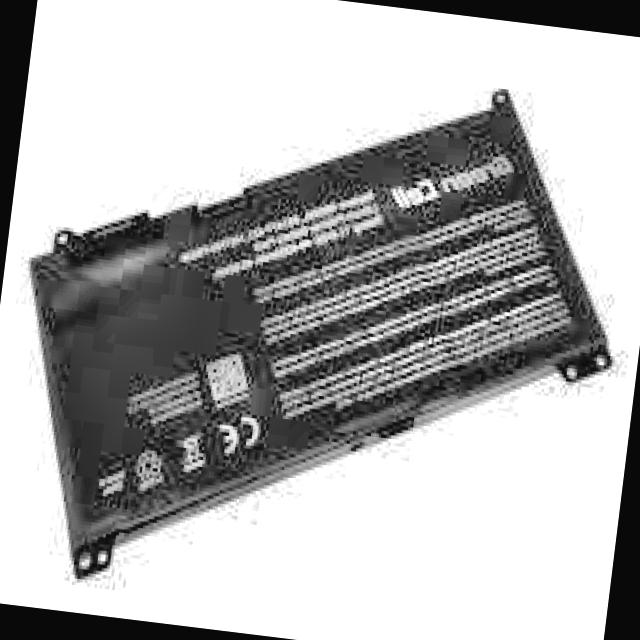Battery: (0, 54, 635, 619)
